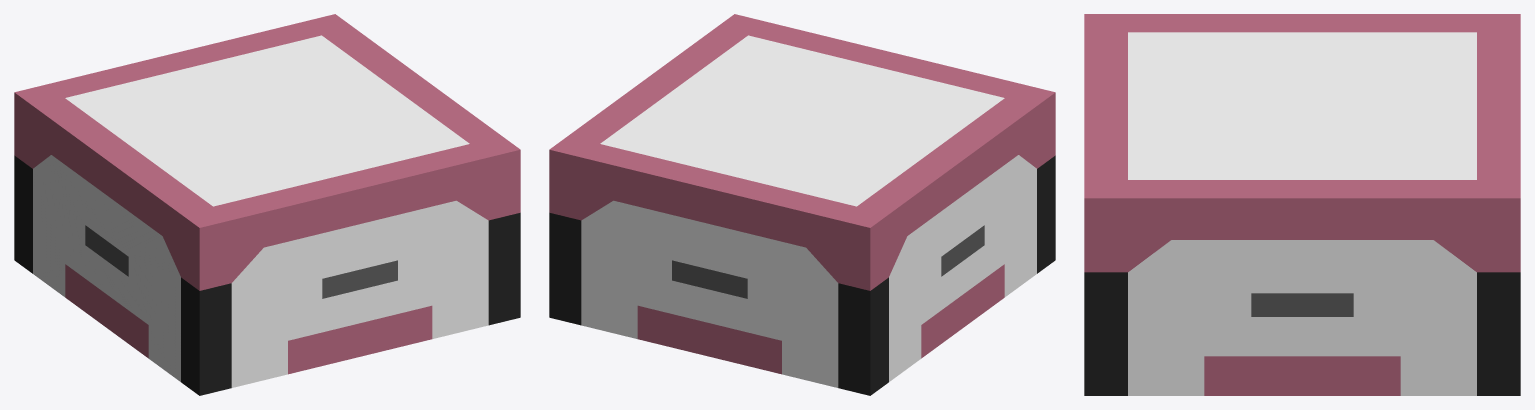
File: Basic_Block.fbx
3 renders of one model, left to right at view 1: azimuth 30°, elevation 25°; view 2: azimuth 150°, elevation 25°; view 3: azimuth 270°, elevation 25°, orthographic. The views are drawn at different scales.
Parts seen in each view (by area): view 1: Basic_Block; view 2: Basic_Block; view 3: Basic_Block.
Boxes of the visible parts, x1,y1,x2,y2 form: Basic_Block: [14, 14, 520, 395]; Basic_Block: [549, 14, 1055, 395]; Basic_Block: [1084, 14, 1520, 395].
Size of the model in its own units: 5 by 2.5 by 5.
